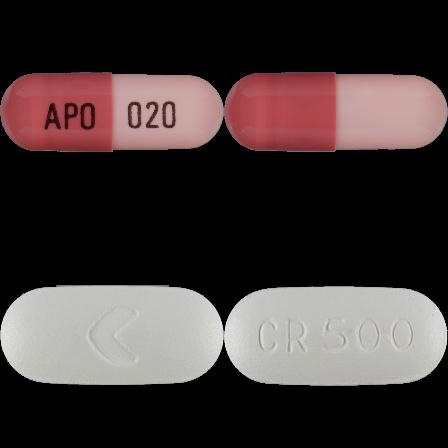52959-722: (0, 0, 224, 224)
